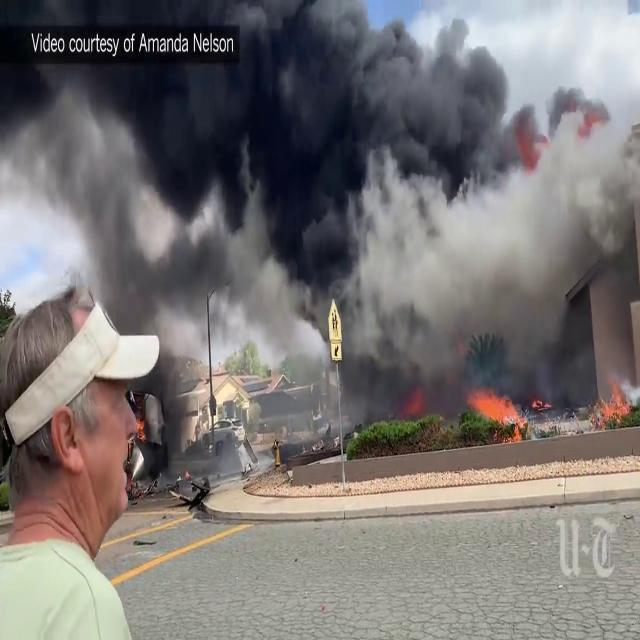Fire: (472, 382, 610, 439)
Smoke: (7, 0, 637, 420)
